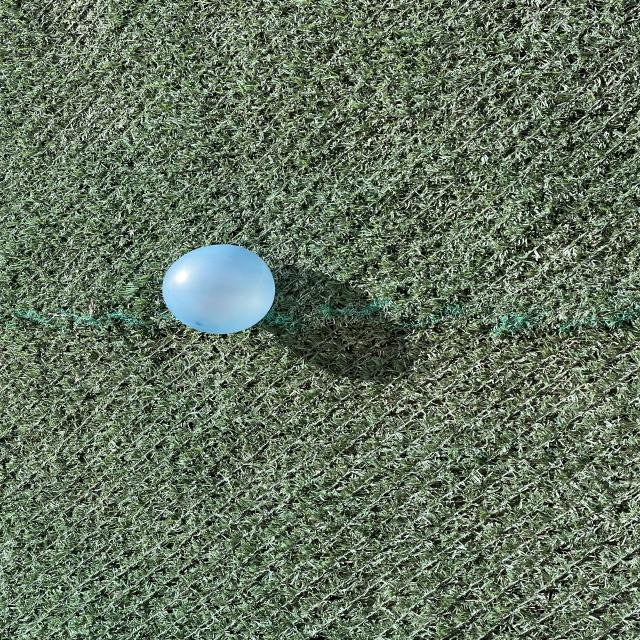balloon: (162, 245, 275, 334)
